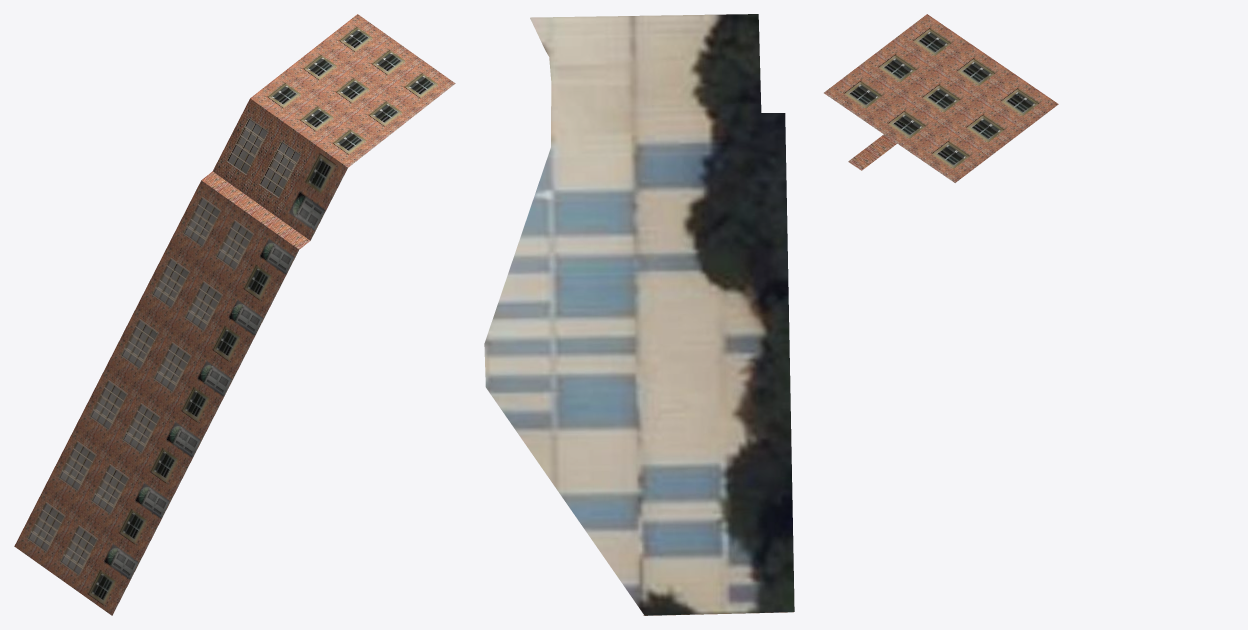
3 views of the same model, side by side, from view 1: azimuth 30°, elevation 25°; view 2: azimuth 150°, elevation 25°; view 3: azimuth 270°, elevation 25° (orthographic). The views are drawn at different scales.
Bounding box in the file's own units: 33.05 × 47.89 × 30.22.
4 materials, 4 textured.
